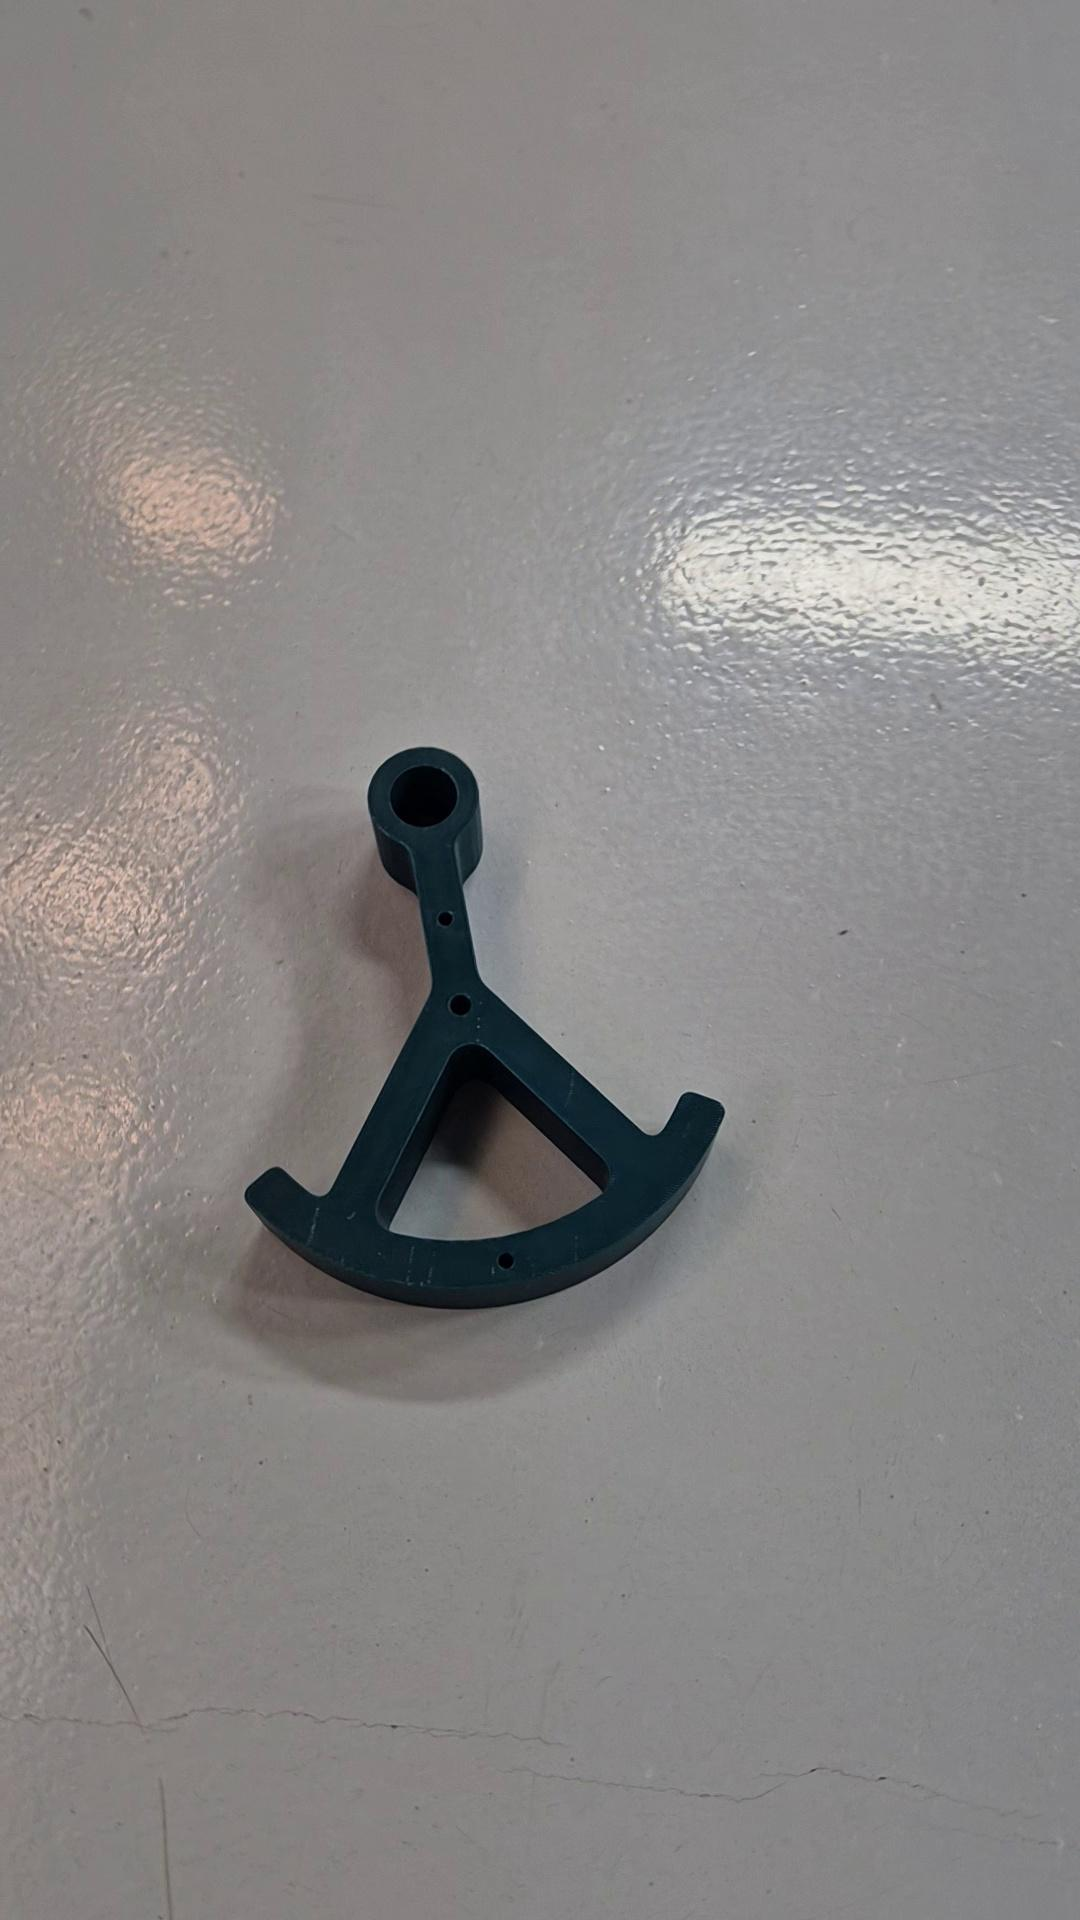Paddles: (240, 742, 729, 1313)
